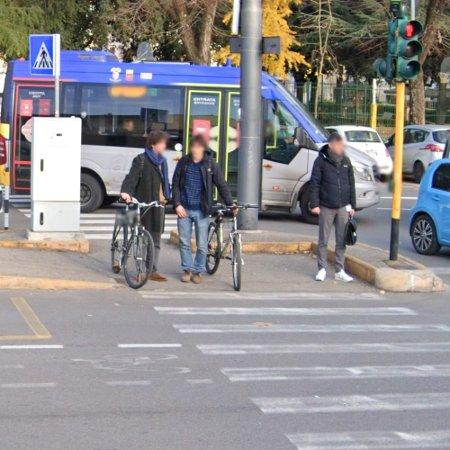crosswalks: (147, 290, 450, 450)
